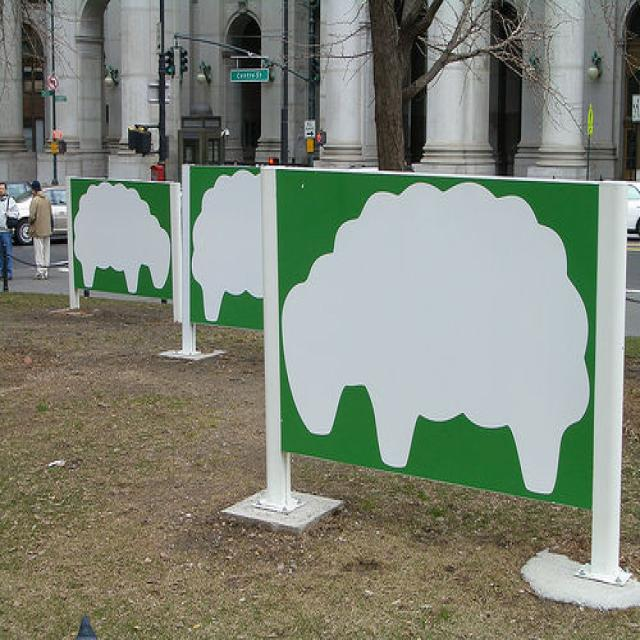light_vehicle: (0, 183, 68, 242), (624, 179, 638, 241)
